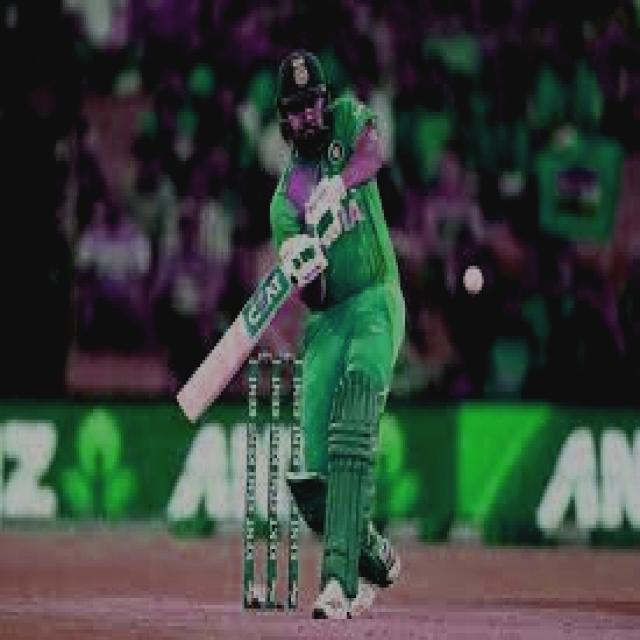toe: (178, 393, 202, 429)
